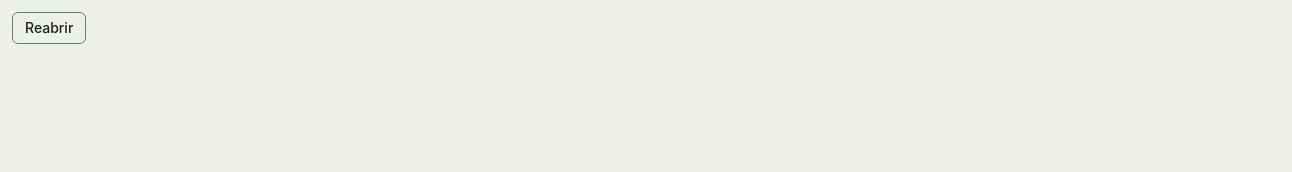
Test: AppointmentActions › Reabrir con la franja ocupada muestra el error y las citas en conflicto en un alert
Click the button "Reabrir": click(49, 28) [12,12,86,44]
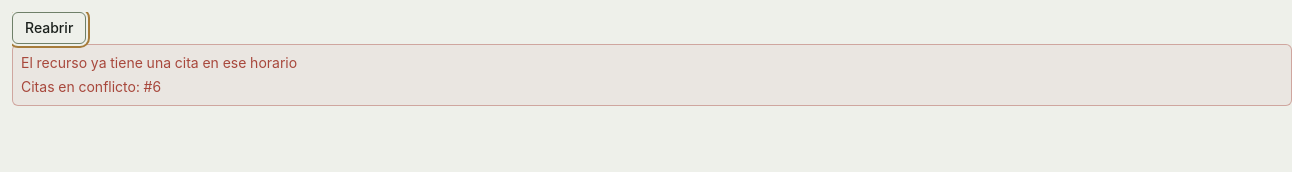
Now the message shows "El recurso ya tiene una cita en ese horario", box [21,54,297,71]
Now the message shows "#6", box [21,78,161,95]
